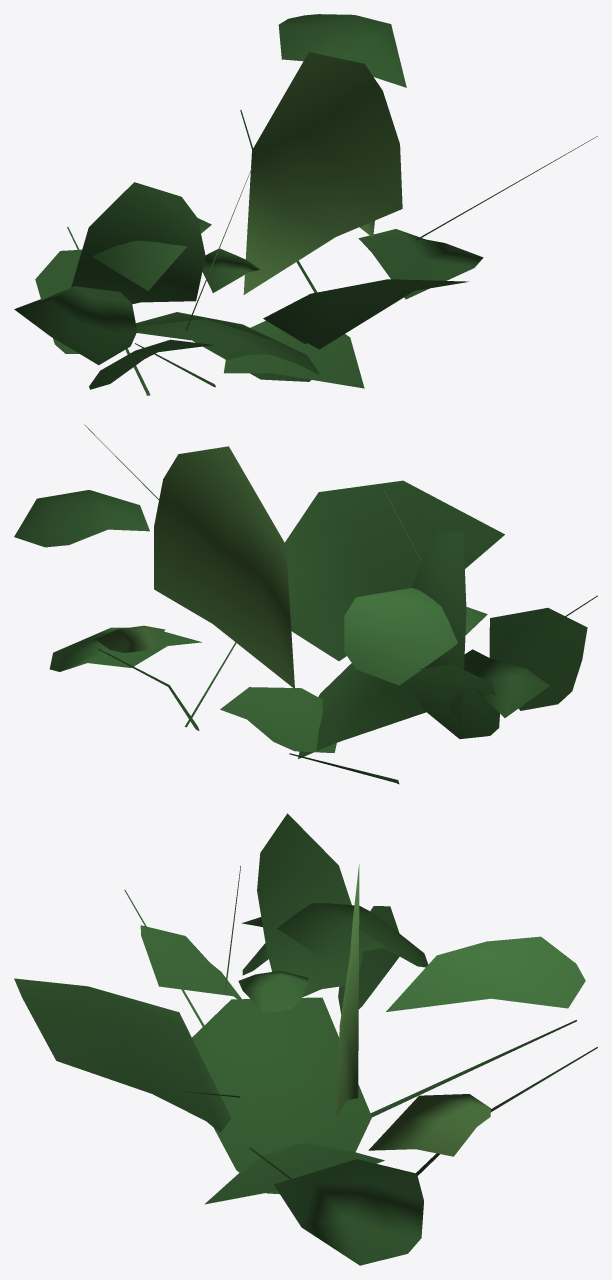
Rendered from forracao_2_muito_longe.glb.
3 views of the same model, one above another, from view 1: azimuth 30°, elevation 25°; view 2: azimuth 150°, elevation 25°; view 3: azimuth 270°, elevation 25° (orthographic). The views are drawn at different scales.
Visible parts, largest first — view 1: forracao_2_muito_longe; view 2: forracao_2_muito_longe; view 3: forracao_2_muito_longe.
Boxes of the visible parts, x1,y1,x2,y2 form: forracao_2_muito_longe: (14, 14, 597, 395); forracao_2_muito_longe: (14, 424, 597, 784); forracao_2_muito_longe: (14, 813, 597, 1265).
Bounding box in the file's own units: 0.4203 × 0.2424 × 0.348.
